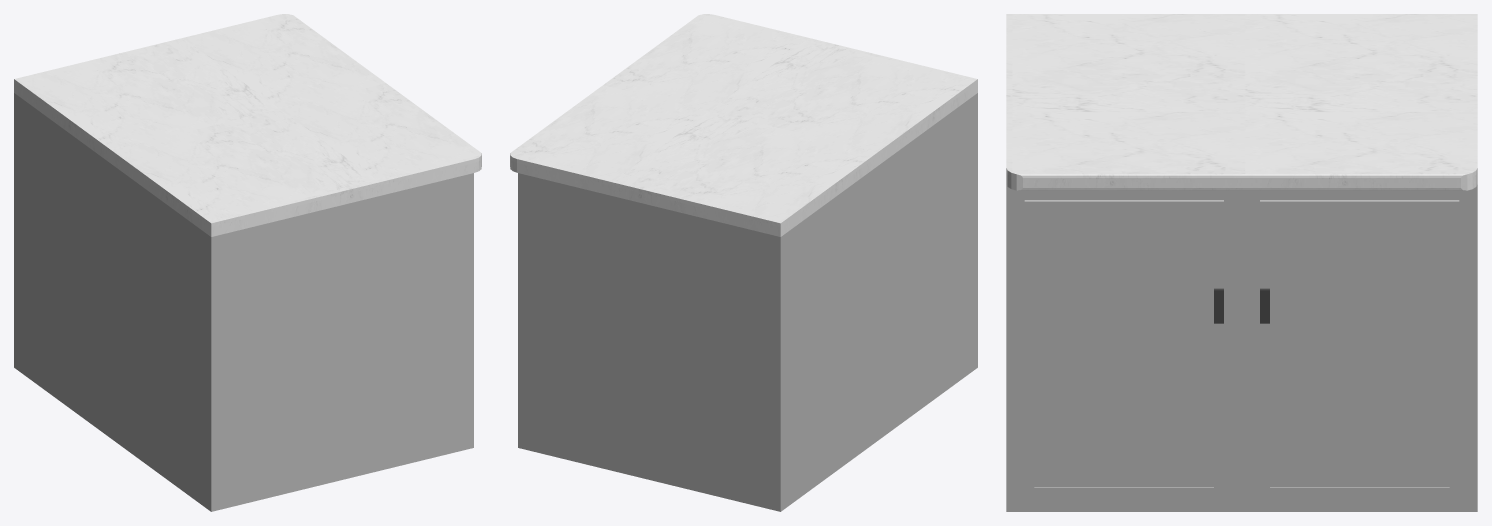
Rendered from CountertopSingle.fbx.
3 views of the same model, side by side, from view 1: azimuth 30°, elevation 25°; view 2: azimuth 150°, elevation 25°; view 3: azimuth 270°, elevation 25° (orthographic). The views are drawn at different scales.
Parts seen in each view (by area): view 1: countertop; view 2: countertop; view 3: countertop.
Part boxes in pixels (left/top/right/bottom): countertop: left=14, top=14, right=481, bottom=511; countertop: left=510, top=14, right=977, bottom=511; countertop: left=1006, top=14, right=1477, bottom=511.
Bounding box in the file's own units: 101 × 101 × 125.
